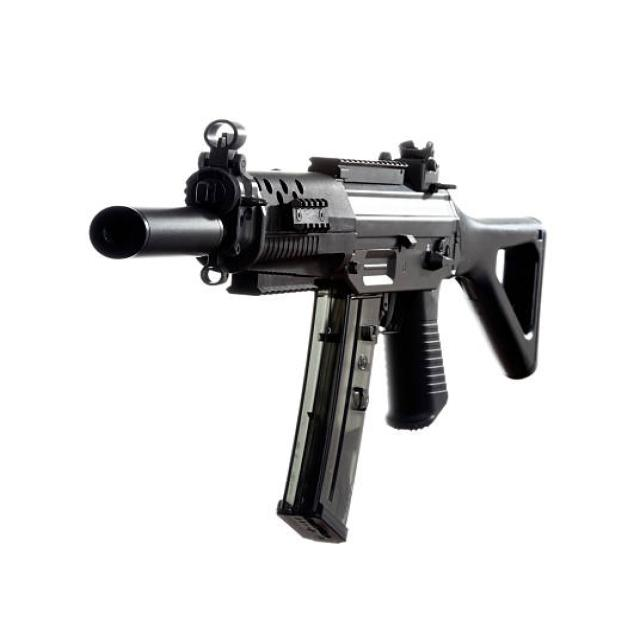rifle: (78, 107, 555, 563)
